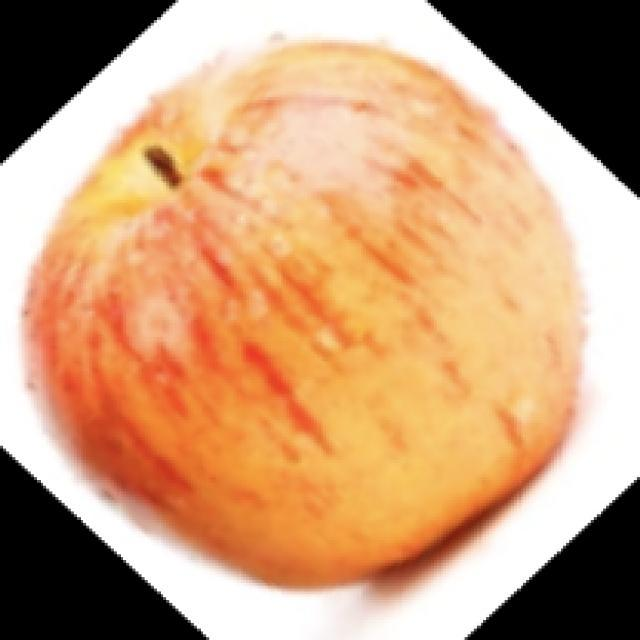Fresh Apple: (58, 54, 600, 584)
